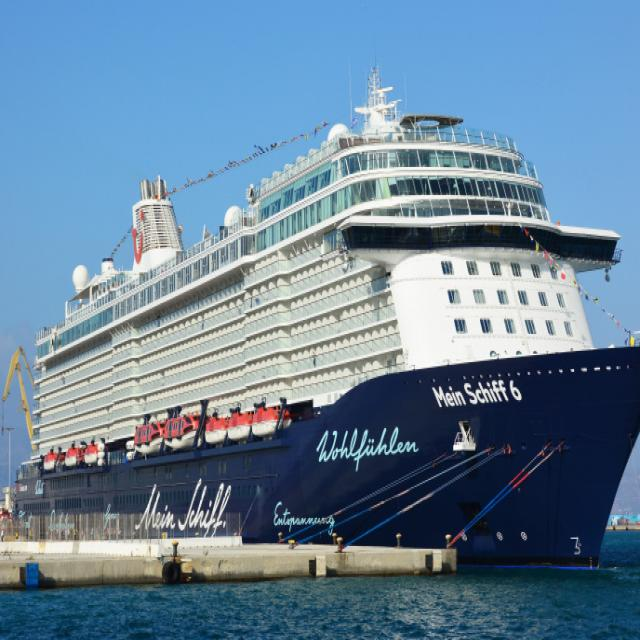cruises: (29, 62, 640, 587)
